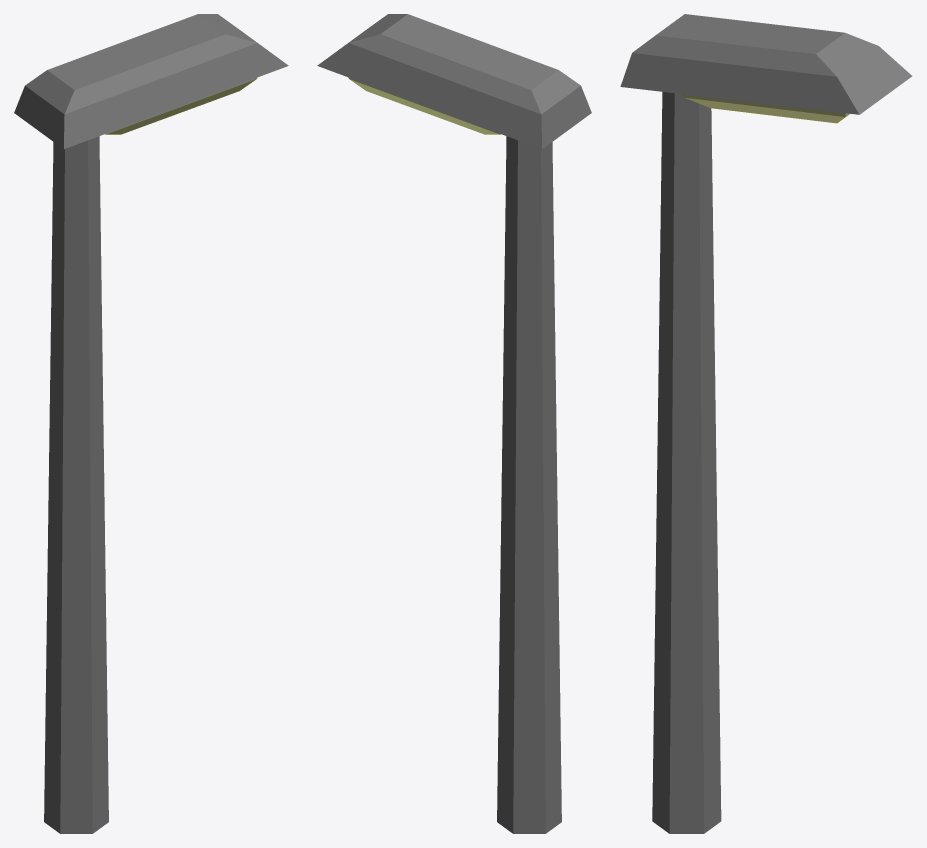
File: street_lamp.glb
The picture shows the model from 3 angles, left to right: view 1: azimuth 30°, elevation 25°; view 2: azimuth 150°, elevation 25°; view 3: azimuth 330°, elevation 25°; orthographic projection. The views are drawn at different scales.
Visible parts, largest first — view 1: Circle, Cube, Cube.001; view 2: Circle, Cube, Cube.001; view 3: Circle, Cube, Cube.001.
Part boxes in pixels (box(x1,y1,x2,y2)): Circle: box(44, 136, 108, 833); Cube: box(14, 14, 288, 148); Cube.001: box(105, 77, 257, 134); Circle: box(497, 136, 561, 833); Cube: box(317, 14, 591, 148); Cube.001: box(348, 77, 500, 134); Circle: box(652, 92, 721, 833); Cube: box(620, 14, 912, 114); Cube.001: box(681, 94, 849, 123).
Bounding box in the file's own units: 1.35 × 4.37 × 0.5153.
